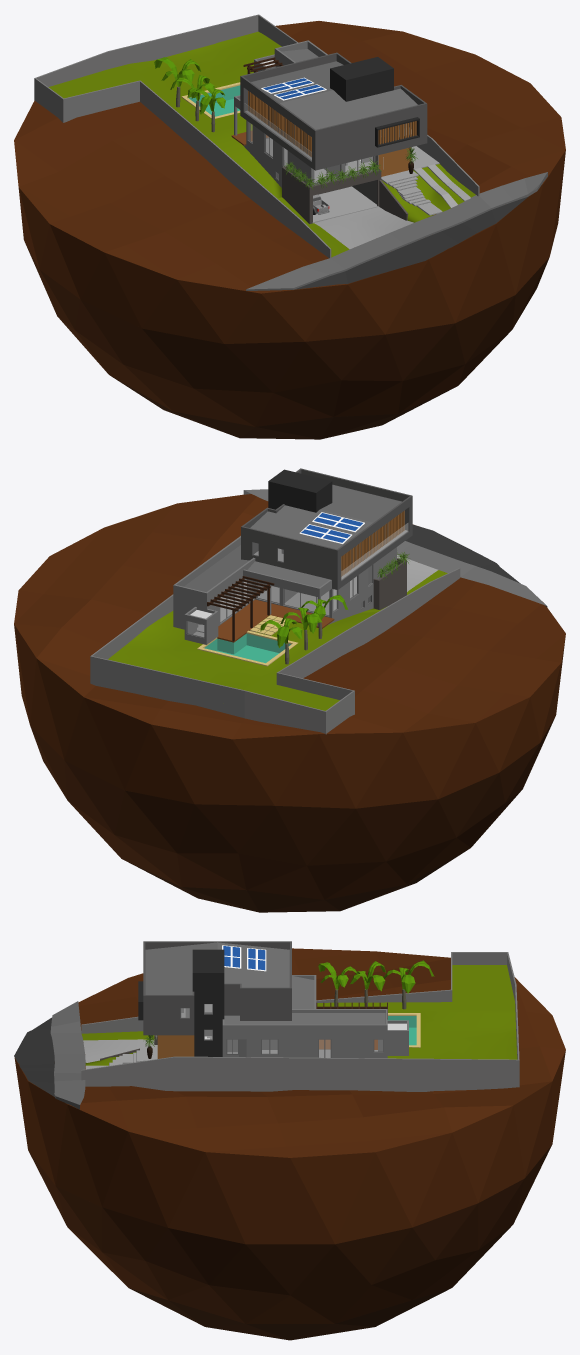
File: Ralph-c.glb
The picture shows the model from 3 angles, top to bottom: view 1: azimuth 30°, elevation 25°; view 2: azimuth 150°, elevation 25°; view 3: azimuth 270°, elevation 25°; orthographic projection.
Parts seen in each view (by area): view 1: base, Plane.001, terreno.modificado, terreno.modificado.001, telha, piso.superior.002, parede.superior, parede.terreo, parede.inferior.001, Cube, terreno.modificado.002, painel.entrada.004 (+12 smaller); view 2: base, Plane.001, terreno.modificado, parede.terreo, piso.superior.002, terreno.modificado.001, telha, parede.superior, Cube, piso.terreo.002, parede.piscina, painel.entrada.004 (+13 smaller); view 3: base, Plane.001, terreno.modificado, parede.terreo, terreno.modificado.001, telha, parede.superior, piso.superior.002, Cube, telha.002, terreno.modificado.002, painel.entrada.001 (+6 smaller).
Boxes of the visible parts, x1=… form: base: x1=14, y1=21, x2=565, y2=439; Plane.001: x1=34, y1=14, x2=479, y2=258; terreno.modificado: x1=48, y1=31, x2=475, y2=257; terreno.modificado.001: x1=246, y1=172, x2=547, y2=290; telha: x1=251, y1=61, x2=417, y2=129; piso.superior.002: x1=240, y1=52, x2=427, y2=170; parede.superior: x1=268, y1=105, x2=427, y2=168; parede.terreo: x1=243, y1=40, x2=378, y2=185; parede.inferior.001: x1=282, y1=166, x2=381, y2=223; Cube: x1=330, y1=57, x2=393, y2=101; terreno.modificado.002: x1=314, y1=207, x2=413, y2=249; painel.entrada.004: x1=248, y1=91, x2=311, y2=156; base: x1=14, y1=494, x2=565, y2=912; Plane.001: x1=90, y1=568, x2=460, y2=734; terreno.modificado: x1=108, y1=570, x2=447, y2=710; parede.terreo: x1=173, y1=536, x2=396, y2=644; piso.superior.002: x1=241, y1=468, x2=412, y2=589; terreno.modificado.001: x1=243, y1=489, x2=547, y2=607; telha: x1=250, y1=485, x2=401, y2=549; parede.superior: x1=241, y1=508, x2=404, y2=579; Cube: x1=268, y1=469, x2=332, y2=512; piso.terreo.002: x1=217, y1=599, x2=334, y2=642; parede.piscina: x1=204, y1=633, x2=290, y2=663; painel.entrada.004: x1=341, y1=510, x2=404, y2=576; base: x1=14, y1=948, x2=565, y2=1340; Plane.001: x1=81, y1=952, x2=519, y2=1091; terreno.modificado: x1=81, y1=965, x2=517, y2=1065; parede.terreo: x1=194, y1=1009, x2=408, y2=1058; terreno.modificado.001: x1=14, y1=1001, x2=85, y2=1109; telha: x1=145, y1=942, x2=289, y2=994; parede.superior: x1=143, y1=993, x2=291, y2=1035; piso.superior.002: x1=143, y1=941, x2=291, y2=1004; Cube: x1=192, y1=949, x2=224, y2=998; telha.002: x1=224, y1=1013, x2=385, y2=1024; terreno.modificado.002: x1=83, y1=1039, x2=153, y2=1062; painel.entrada.001: x1=157, y1=1035, x2=194, y2=1058.
Size of the model in its own units: 57.06 by 42.08 by 57.11.
